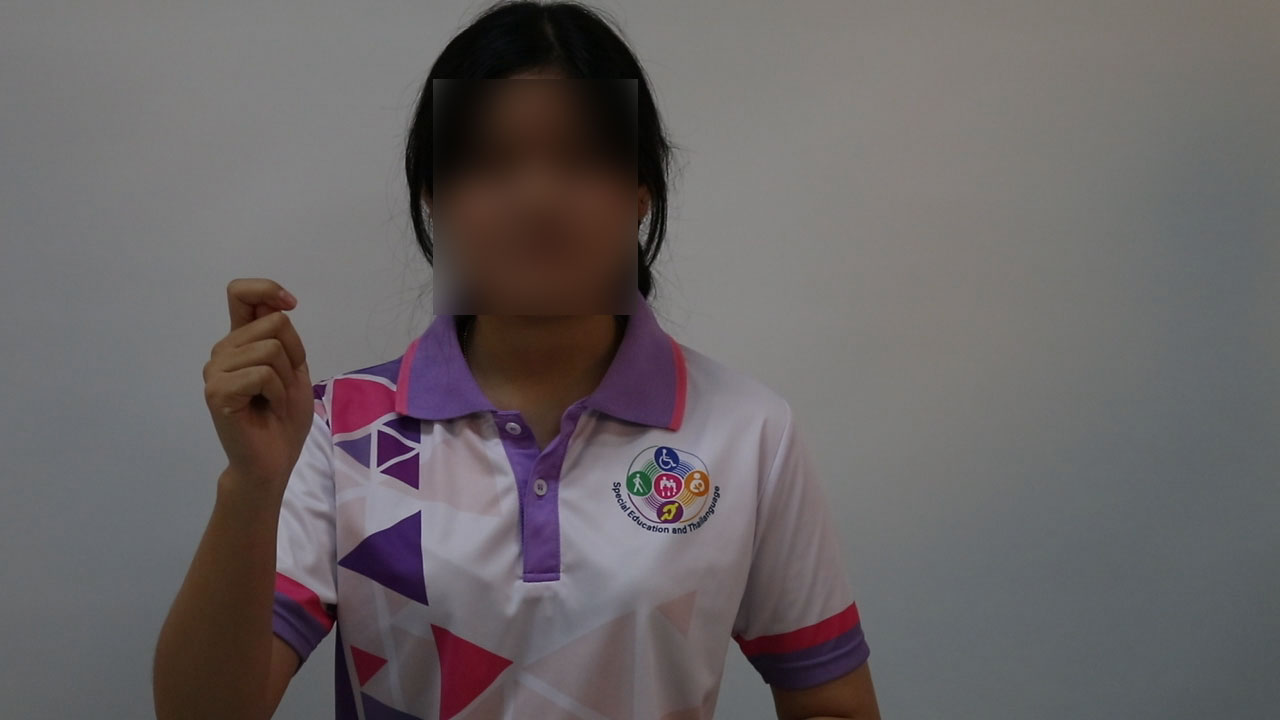or: (187, 277, 325, 489)
